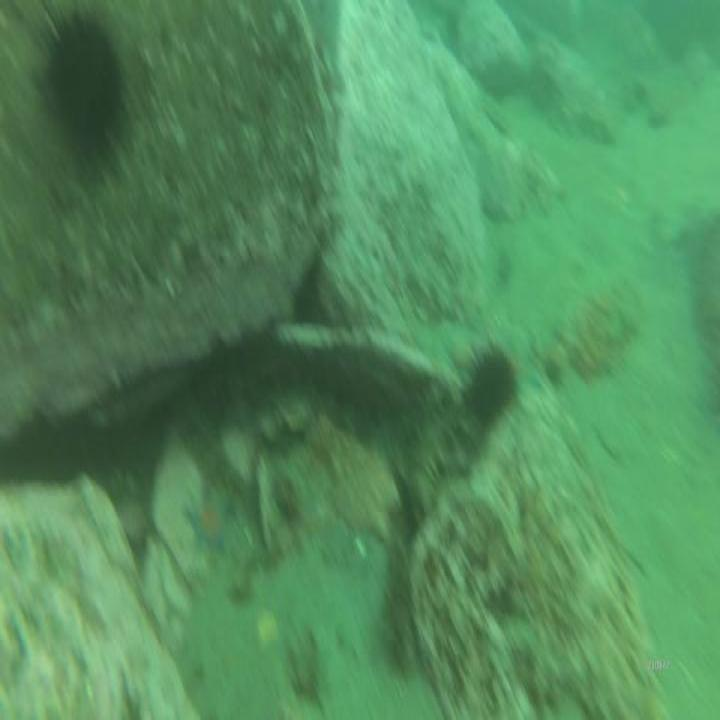echinus: (33, 7, 129, 183), (463, 332, 519, 428)
holothurian: (387, 395, 455, 677)
starfish: (184, 485, 232, 566)
